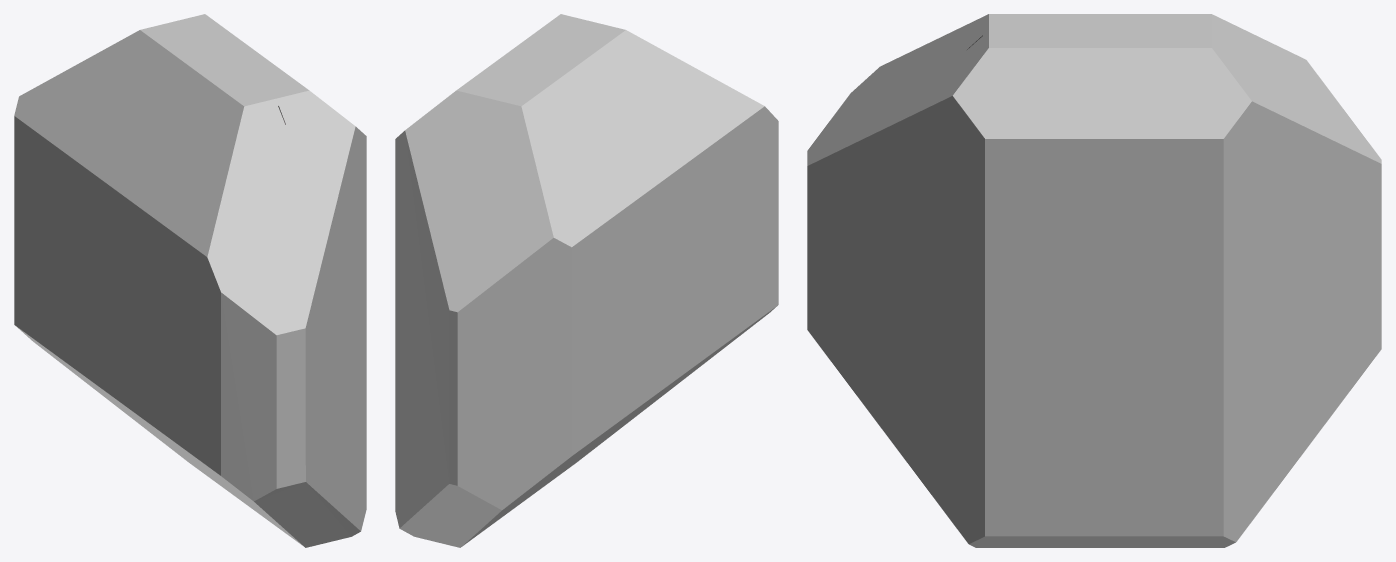
The model's file is SM_drainage_pole_05.fbx.
3 views of the same model, side by side, from view 1: azimuth 30°, elevation 25°; view 2: azimuth 150°, elevation 25°; view 3: azimuth 270°, elevation 25° (orthographic). The views are drawn at different scales.
Parts seen in each view (by area): view 1: SM_drainage_pole_05_ConvexHulls; view 2: SM_drainage_pole_05_ConvexHulls; view 3: SM_drainage_pole_05_ConvexHulls.
Boxes of the visible parts, x1,y1,x2,y2 form: SM_drainage_pole_05_ConvexHulls: [14, 14, 366, 547]; SM_drainage_pole_05_ConvexHulls: [395, 14, 778, 547]; SM_drainage_pole_05_ConvexHulls: [807, 14, 1381, 547].
Size of the model in its own units: 43.68 by 97.53 by 90.18.
2 materials, 1 textured.
